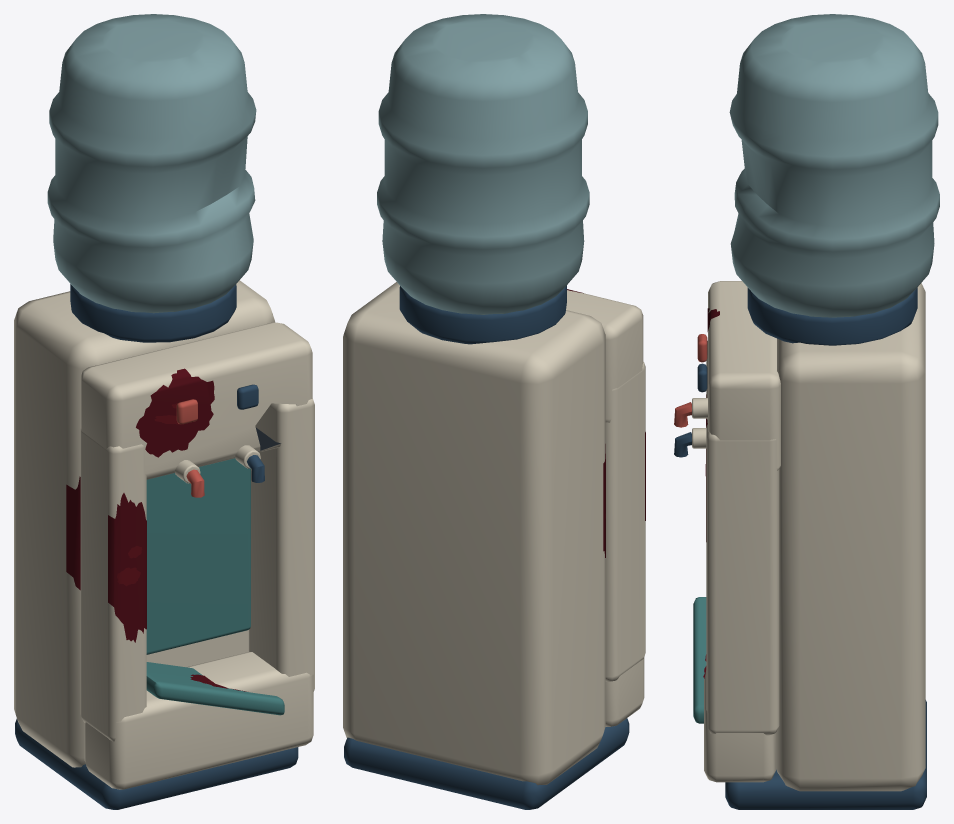
File: water_cooler.glb
3 renders of one model, left to right at view 1: azimuth 30°, elevation 25°; view 2: azimuth 150°, elevation 25°; view 3: azimuth 270°, elevation 25°, orthographic.
Parts seen in each view (by area): view 1: water_cooler_Outbreak_Static; view 2: water_cooler_Outbreak_Static; view 3: water_cooler_Outbreak_Static.
Boxes of the visible parts, left/top/right/bottom form: water_cooler_Outbreak_Static: left=14, top=14, right=314, bottom=809; water_cooler_Outbreak_Static: left=343, top=14, right=645, bottom=809; water_cooler_Outbreak_Static: left=674, top=14, right=939, bottom=809.
Size of the model in its own units: 0.445 by 1.47 by 0.488.
